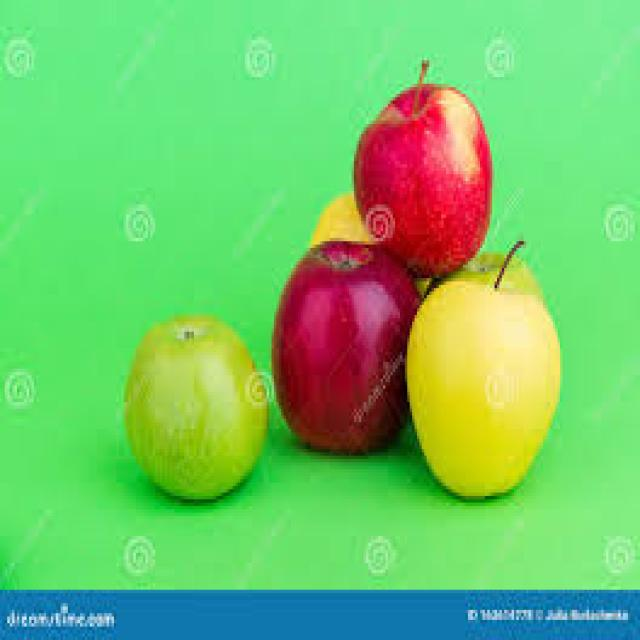non_orange: (402, 255, 576, 531), (88, 279, 280, 500), (322, 78, 524, 287), (246, 250, 436, 470), (420, 206, 570, 430), (286, 181, 433, 377)
